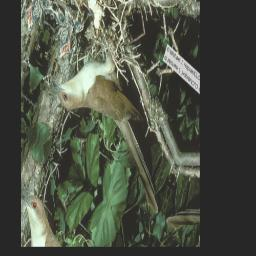Cuckoo: (42, 18, 183, 216)
